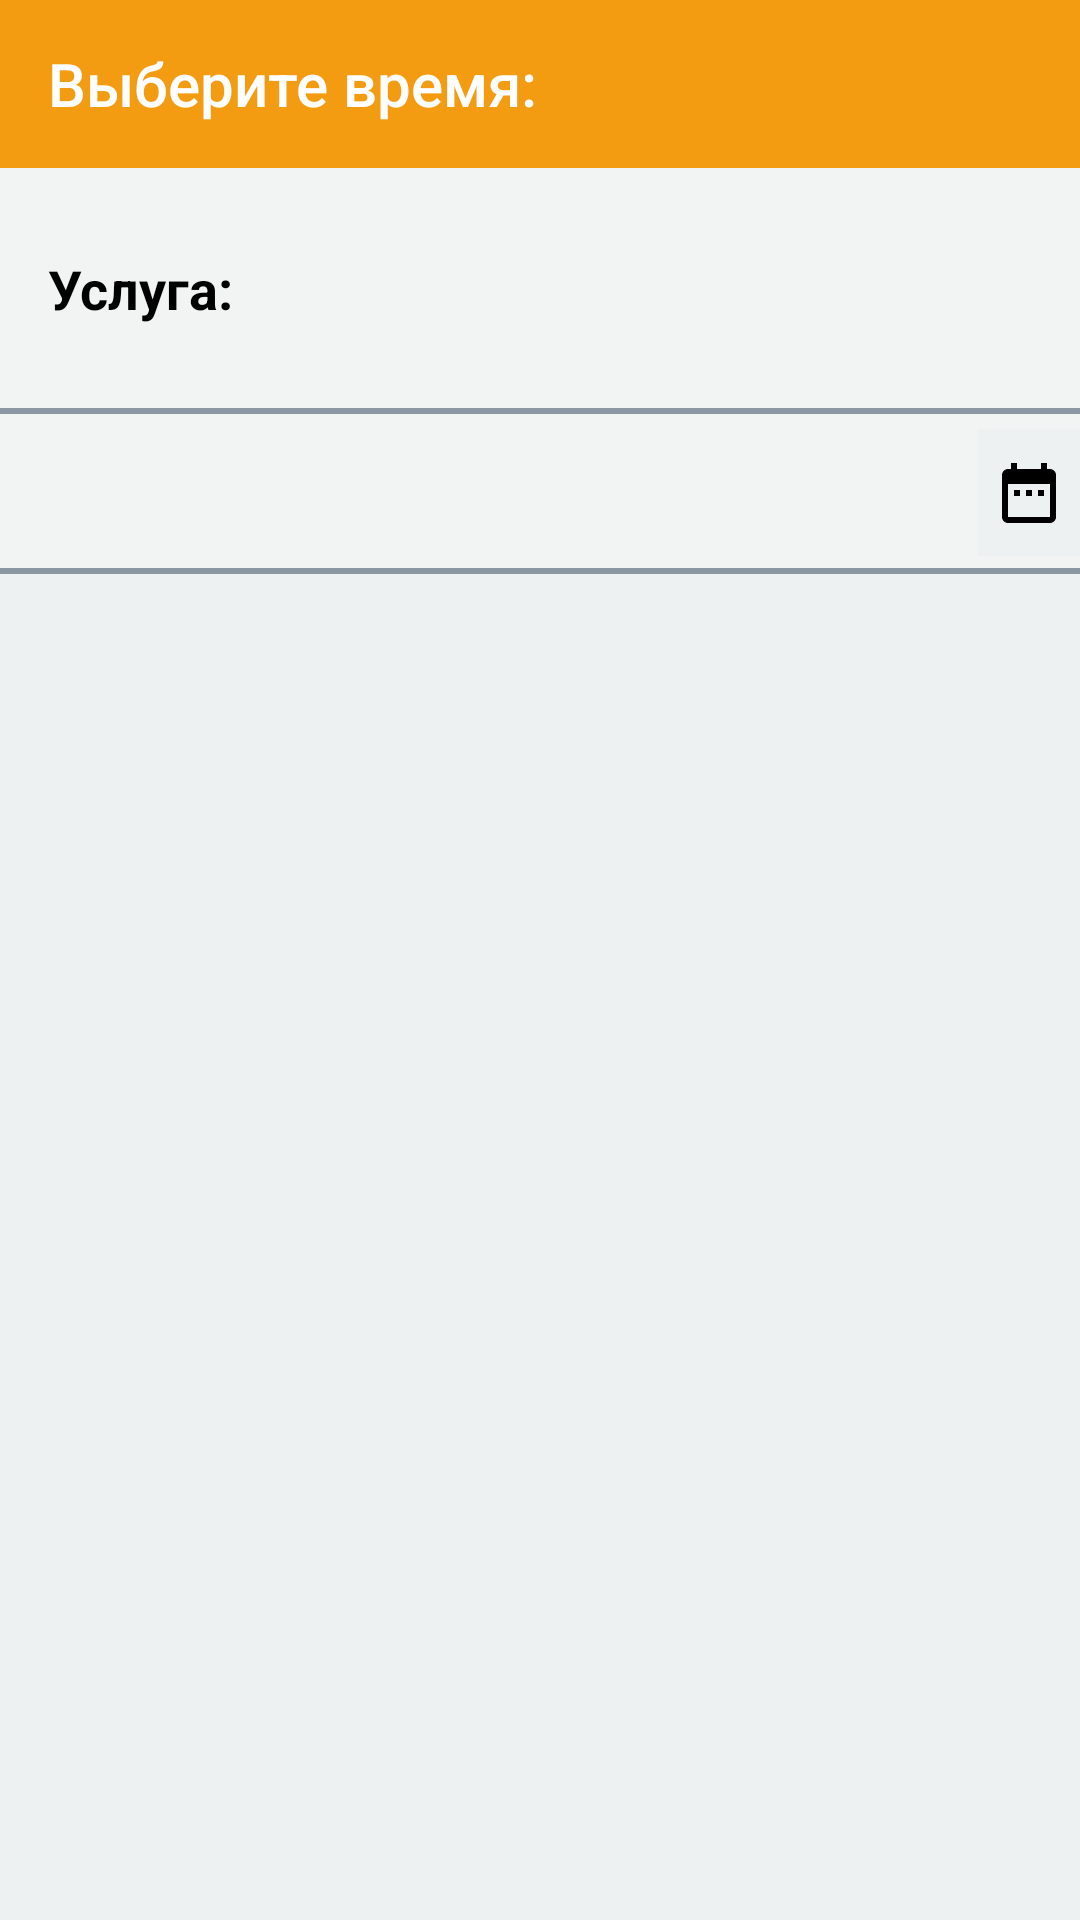

Icons on this 1080px×1920px Android screen, each with the point to tap as (x=x, y=y):
date range: (x=1029, y=493)
